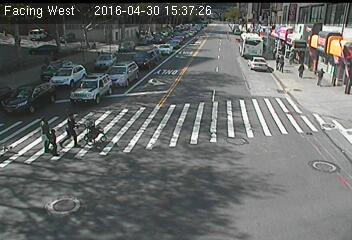neg: (175, 36, 202, 72), (196, 148, 222, 182), (137, 45, 159, 75), (228, 41, 249, 70), (247, 127, 268, 155), (144, 173, 163, 198), (91, 116, 109, 140), (59, 182, 77, 206), (305, 147, 322, 170), (185, 101, 201, 122), (63, 55, 77, 74), (314, 18, 328, 37)
pos: (56, 110, 84, 147), (26, 110, 51, 144), (294, 58, 310, 80), (275, 53, 289, 73), (315, 68, 329, 86), (49, 129, 62, 147)
